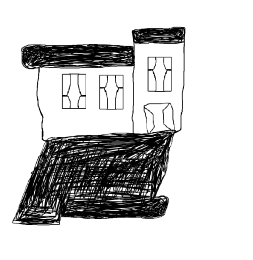door: (138, 98, 180, 138)
open_window: (100, 75, 125, 110), (62, 74, 87, 108), (148, 56, 171, 92)
shaded_roof: (17, 38, 135, 74), (127, 23, 190, 48)
shadow: (6, 129, 182, 231)
wall: (36, 65, 137, 142), (130, 42, 187, 136)
